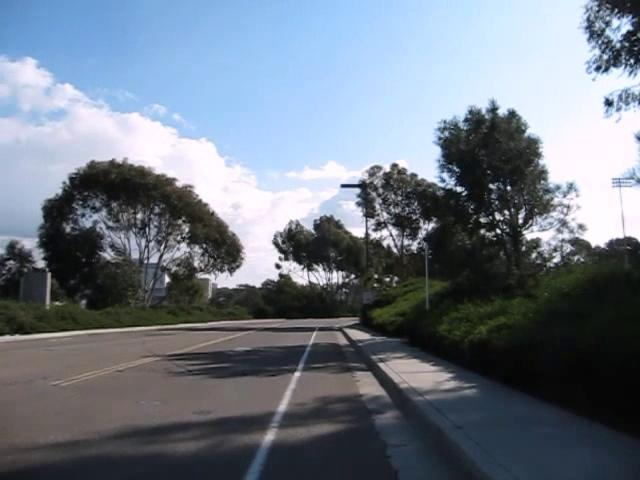speedLimitUrdbl: (361, 289, 374, 305)
